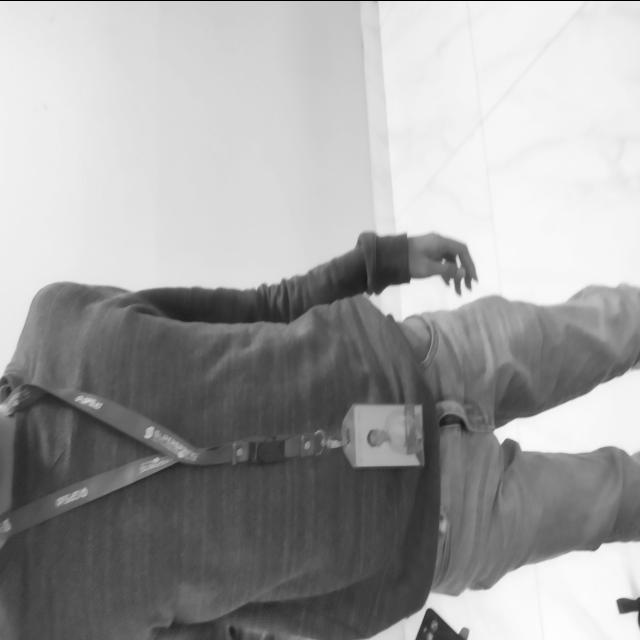ID_card: (338, 401, 424, 469)
